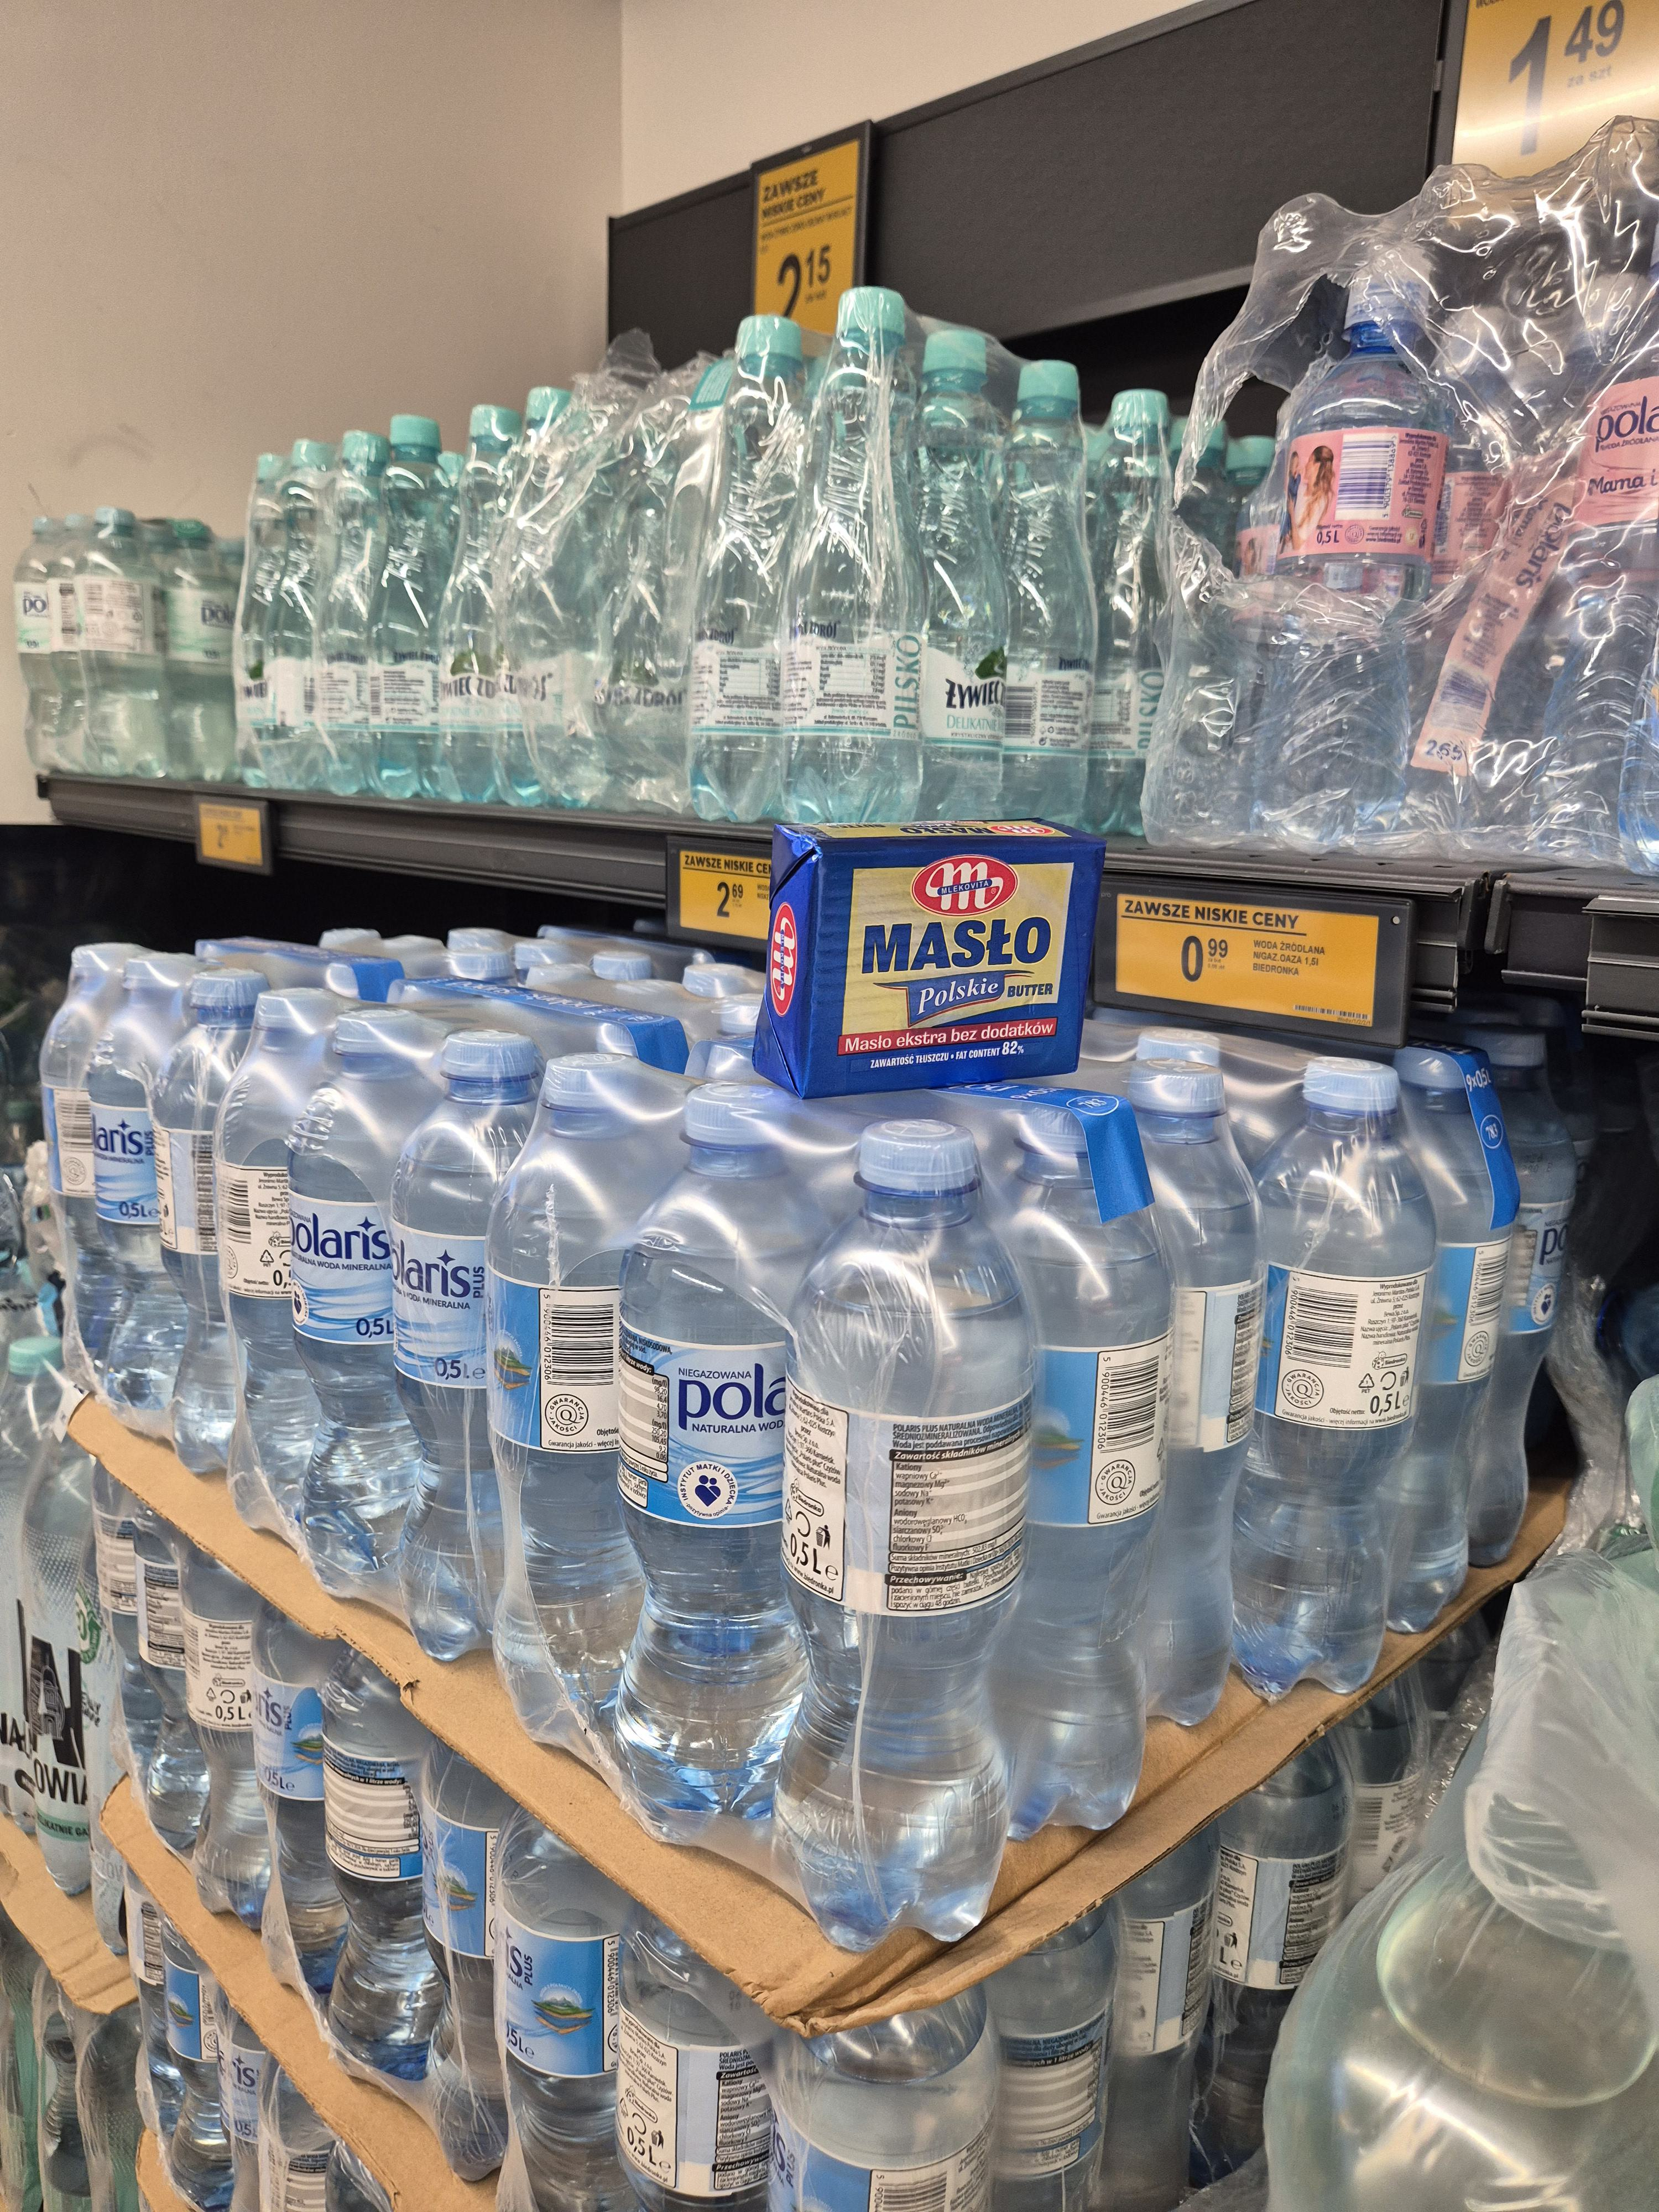Butter: (767, 808, 1107, 1094)
